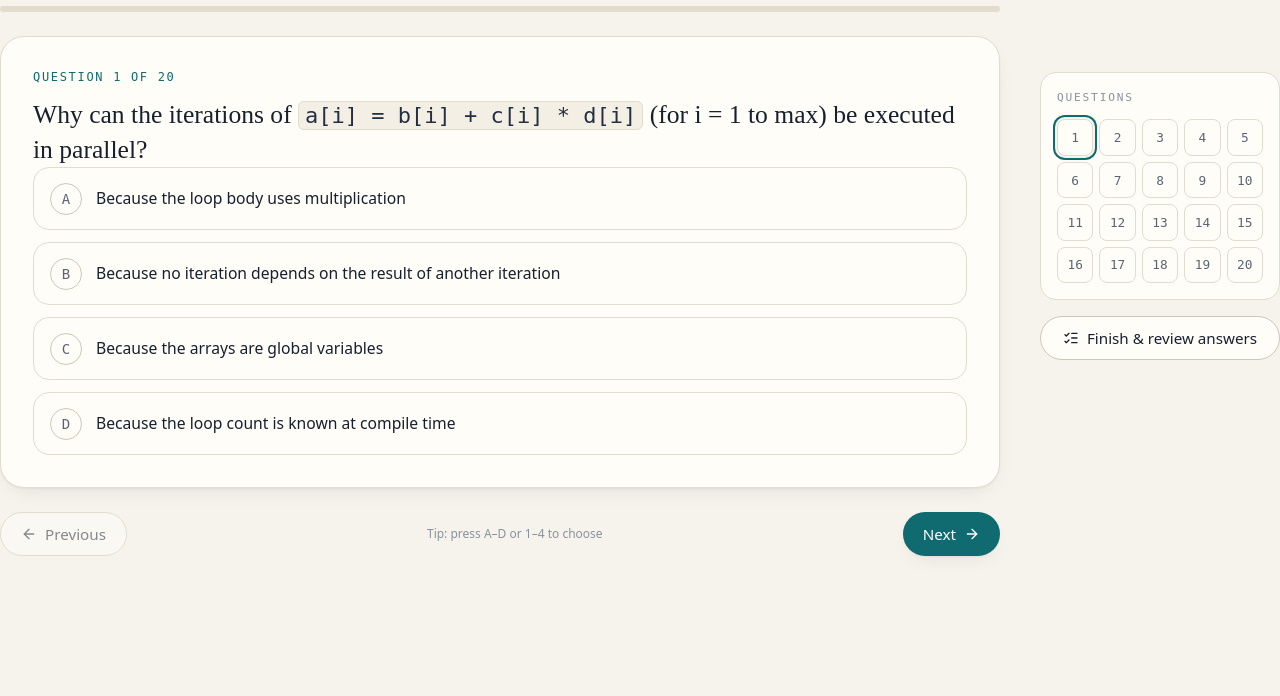
Test: QuizRunner › summarises unanswered questions before submission and scores from the answer key
The width and height of the screenshot is (1280, 696).
Click the 2nd radio button.
click(500, 274)  # box left=33, top=242, right=967, bottom=305
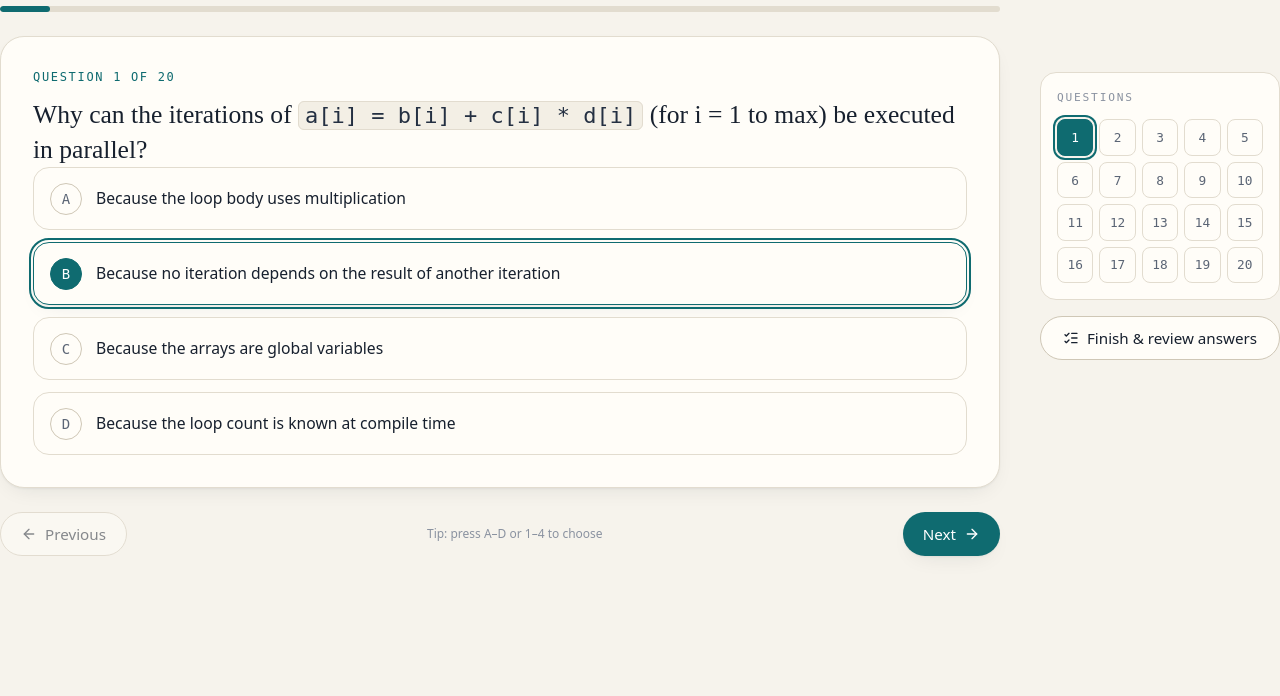
Click the button with aria-label "Next question".
click(951, 534)  # box left=903, top=512, right=1000, bottom=556
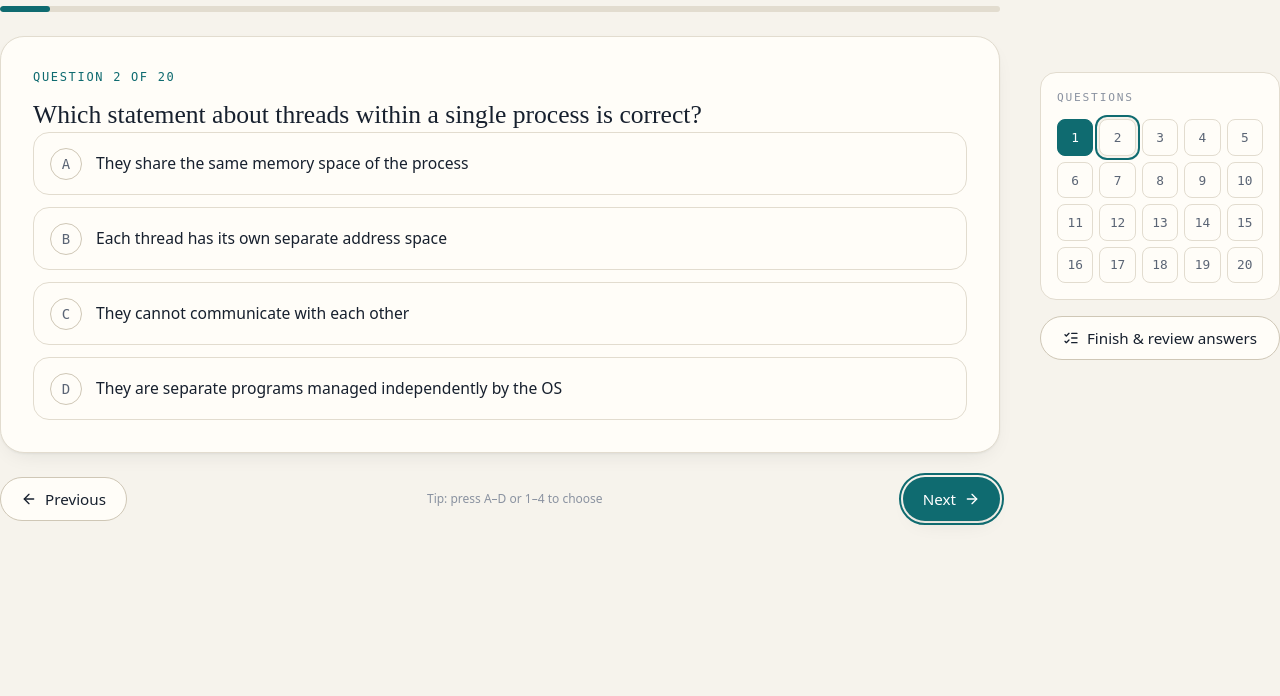
Click the radio button labelled "B Each thread has its own separate address space".
click(66, 239)  # box left=33, top=207, right=967, bottom=270
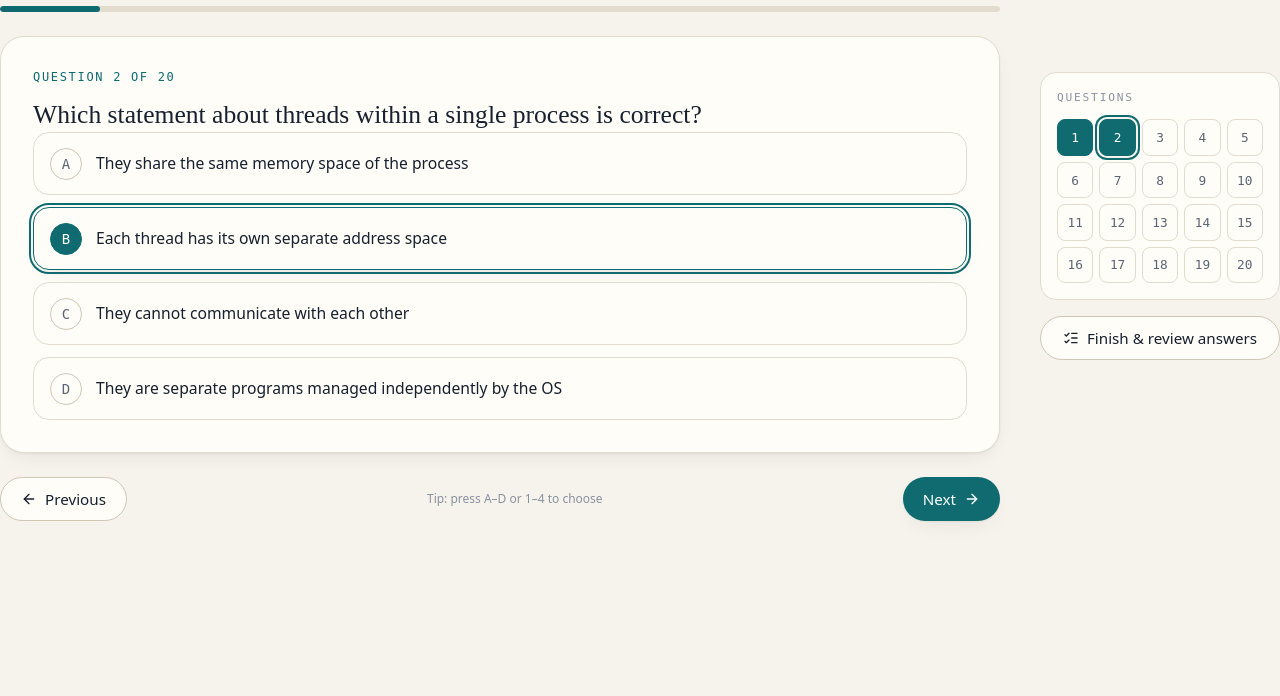
Click the button "Finish & review answers".
click(1160, 338)  # box left=1040, top=316, right=1279, bottom=360
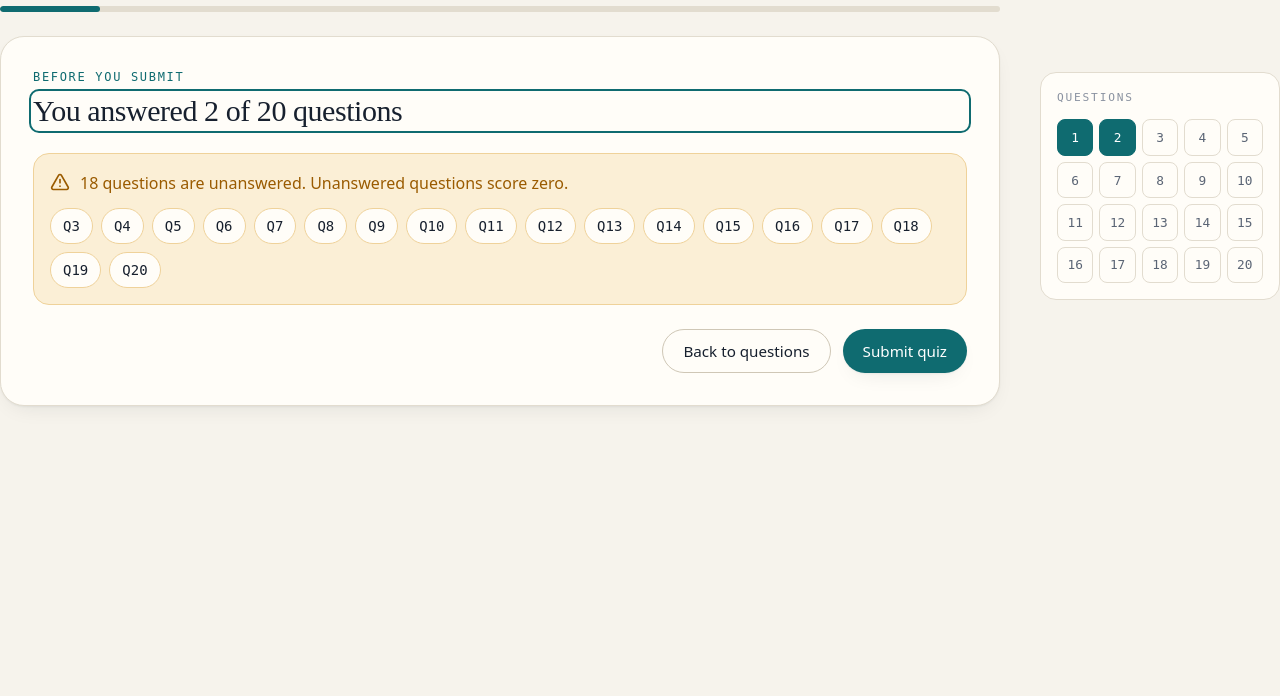
Check: the heading "You answered 2 of 20 questions" is shown, box left=33, top=94, right=402, bottom=127
Check: the text "18 questions are unanswered" is shown, box left=80, top=170, right=568, bottom=196
Click the button "Submit quiz".
click(905, 351)  # box left=843, top=329, right=967, bottom=373
(page scrolled)
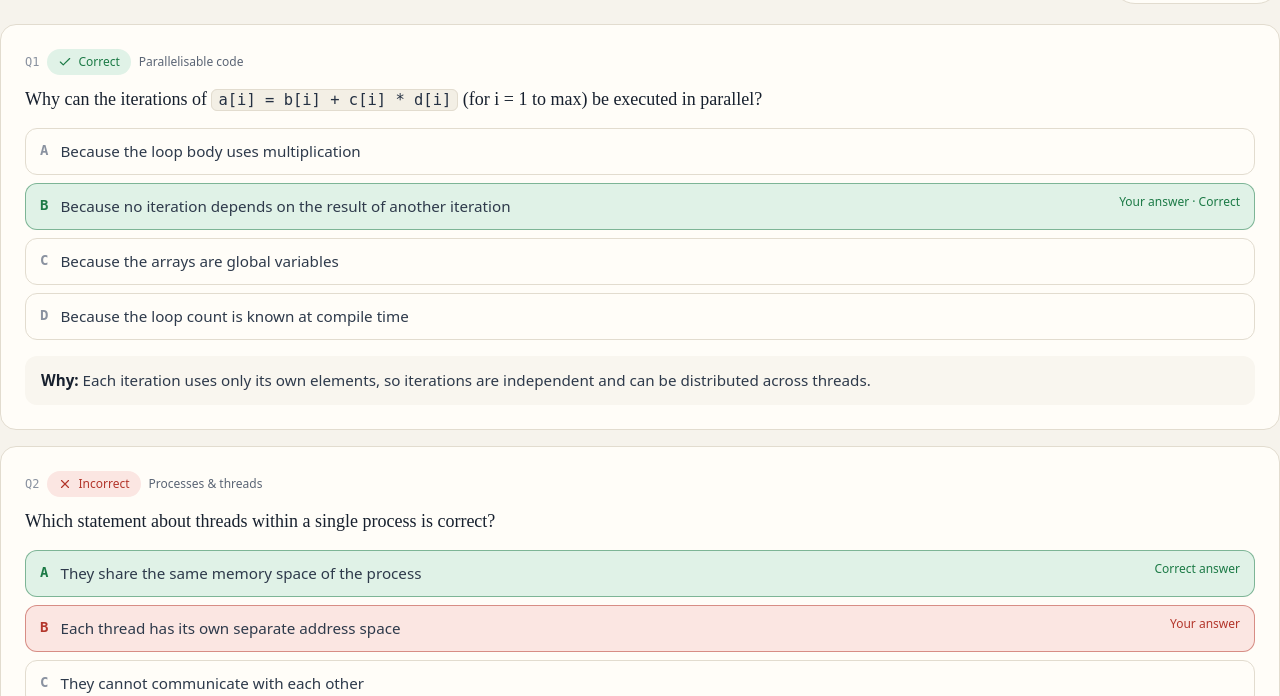
Check: the text "Each iteration uses only its own elements, so iterations are independent and can be distributed across threads." is shown, box left=83, top=370, right=871, bottom=390
Check: the button "Submit quiz" is gone
